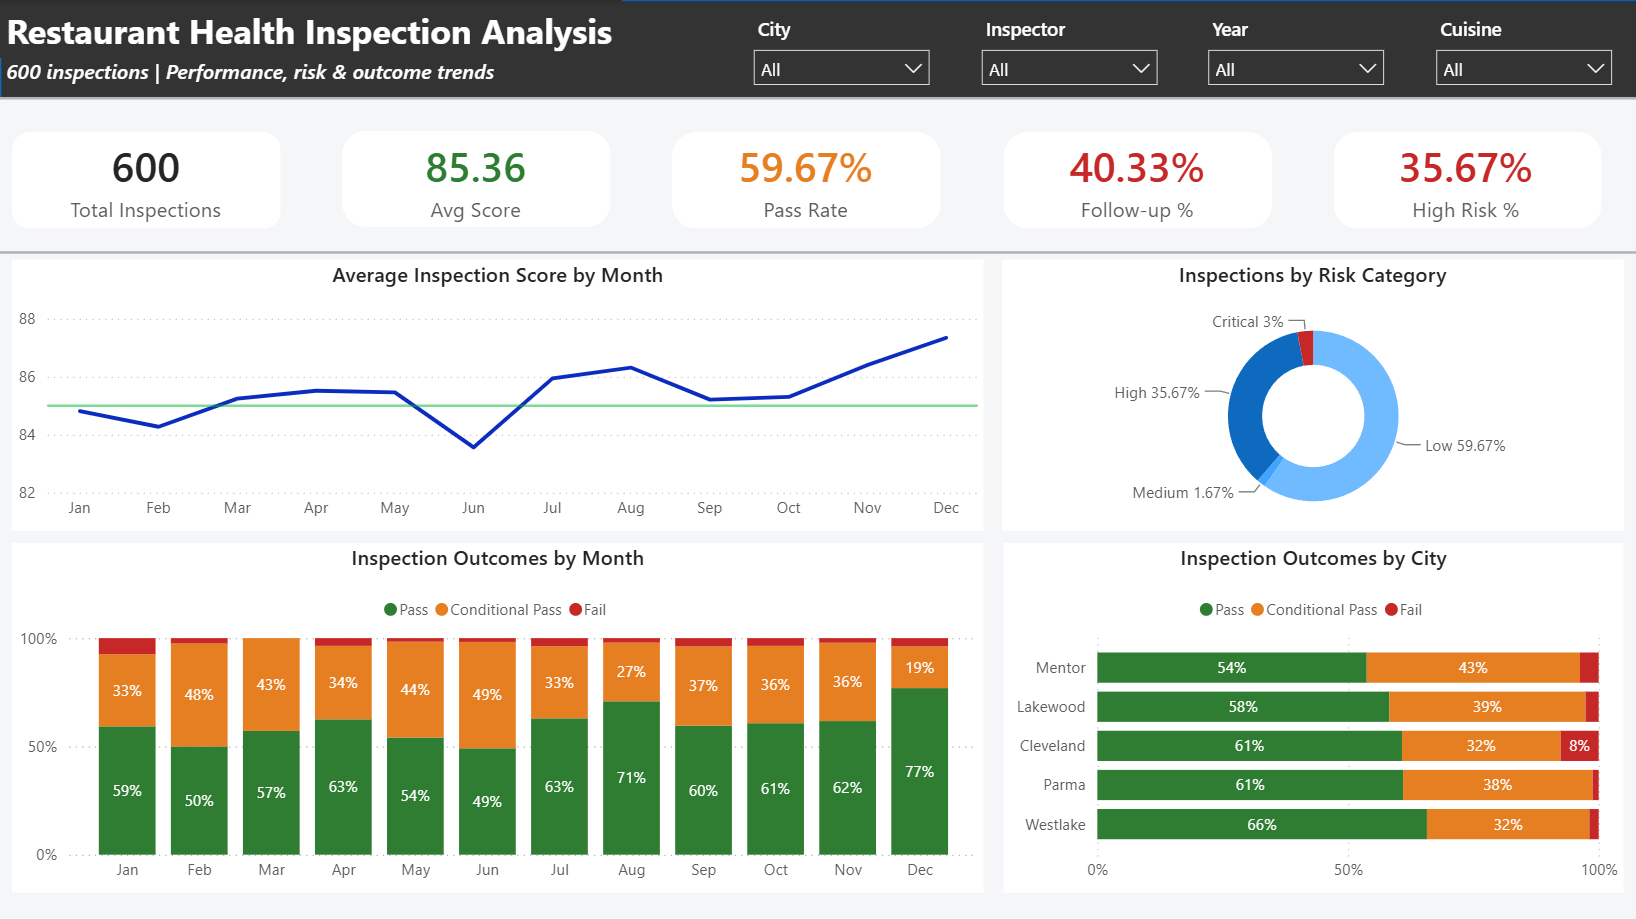

The page's visual inventory and layout, read from the dashboard file:
{"tool":"powerbi","page":{"name":"Executive Page","canvas":[1280,720],"ordinal":0},"visuals":[{"type":"shape","title":"Header Background","box":[0,0,1280,77.4],"z":0},{"type":"shape","box":[267.5,102.4,210,75.5],"z":0,"group":"g3"},{"type":"shape","box":[783.9,102.6,210,75.5],"z":0,"group":"g1"},{"type":"shape","box":[9.2,103.3,210,75.5],"z":0,"group":"g5"},{"type":"shape","box":[525.7,103.3,210,75.5],"z":0,"group":"g2"},{"type":"shape","box":[1042.1,103.3,209.6,75.5],"z":0,"group":"g4"},{"type":"textbox","title":"Title","box":[0,0,485.8,45.3],"z":1000},{"type":"cardVisual","fields":{"Data":["Measure.Total Inspections"]},"box":[9.2,90.1,209.9,101.2],"z":1000,"group":"g5"},{"type":"cardVisual","fields":{"Data":["Measure.Average Inspection Score"]},"box":[267.5,90.1,209.9,101.2],"z":1000,"group":"g3"},{"type":"cardVisual","fields":{"Data":["Measure.Pass Rate"]},"box":[525.7,90.1,209.9,101.2],"z":1000,"group":"g2"},{"type":"cardVisual","fields":{"Data":["Measure.Follow-up Rate %"]},"box":[784.3,90.1,209.9,101.2],"z":1000,"group":"g1"},{"type":"cardVisual","fields":{"Data":["Measure.High-Risk Inspection Rate %"]},"box":[1042.1,90.1,207.2,101.2],"z":1000,"group":"g4"},{"type":"slicer","title":"Cuisine Slicer","fields":{"Values":["Restaurants.Cuisine"]},"box":[1112.4,7,157,63.4],"z":2000},{"type":"slicer","title":"Year Slicer","fields":{"Values":["Date.Year"]},"box":[934.6,7,157,63.4],"z":3000},{"type":"slicer","title":"Inspector Slicer","fields":{"Values":["Inspectors.Inspector_Name"]},"box":[756.9,7,157,63.4],"z":4000},{"type":"slicer","title":"City Slicer","fields":{"Values":["Restaurants.City"]},"box":[579,7,157.1,62.1],"z":5000},{"type":"shape","title":"Title Bottom Border","box":[0,69.2,1280,15.2],"z":6000},{"type":"group","id":"g1","title":"Follow up % KPI","box":[783.9,90.1,209.9,101.3],"z":7000},{"type":"group","id":"g2","title":"Pass Rate KPI","box":[525.7,90.1,209.9,101.3],"z":8000},{"type":"group","id":"g3","title":"Avg Score KPI","box":[267.5,90.1,209.9,101.3],"z":9000},{"type":"group","id":"g4","title":"High Risk % KPI","box":[1042.1,90.1,209.9,101.3],"z":10000},{"type":"group","id":"g5","title":"Total Inspections KPI","box":[9.2,90.1,210,101],"z":11000},{"type":"shape","title":"KPI Bottom Border","box":[0,191.1,1280,12.4],"z":12000},{"type":"lineChart","title":"Average Inspection Score by Month","fields":{"Y":["Measure.Average Inspection Score"],"Category":["Date.Date Heiarchy.Year","Date.Date Heiarchy.Quarter","Date.Date Heiarchy.Month Short","Date.Date Heiarchy.Day"]},"box":[9.1,203.2,759.4,212.2],"z":13000},{"type":"donutChart","title":"Inspections by Risk Category","fields":{"Y":["Measure.Total Inspections"],"Category":["Fact_Inspections.Risk Category New"]},"box":[783.5,203.2,485.8,212.2],"z":14000},{"type":"hundredPercentStackedColumnChart","title":"Inspection Outcomes by Month","fields":{"Category":["Date.Month Short"],"Series":["Fact_Inspections.Result"],"Y":["Measure.Total Inspections"]},"box":[9.1,424.4,759.4,273.6],"z":15000},{"type":"hundredPercentStackedBarChart","title":"Inspection Outcomes by City","fields":{"Category":["Restaurants.City"],"Y":["Measure.Total Inspections"],"Series":["Fact_Inspections.Result"]},"box":[784.5,424.4,484.8,273.6],"z":16000},{"type":"textbox","box":[0,38.2,406.3,52.3],"z":17000}]}

Visuals, with their boxes in screenshot pixels (x1, y1, x2, y2), scaled from the page's 1280x720 canvas onto the 1636x919 screenshot:
"Header Background" shape: 0/0/1635/99
shape: 342/131/610/227
shape: 1002/131/1270/227
shape: 12/132/280/228
shape: 672/132/940/228
shape: 1332/132/1600/228
"Title" textbox: 0/0/621/58
cardVisual - Measure.Total Inspections: 12/115/280/244
cardVisual - Measure.Average Inspection Score: 342/115/610/244
cardVisual - Measure.Pass Rate: 672/115/940/244
cardVisual - Measure.Follow-up Rate %: 1002/115/1271/244
cardVisual - Measure.High-Risk Inspection Rate %: 1332/115/1597/244
"Cuisine Slicer" slicer: 1422/9/1622/90
"Year Slicer" slicer: 1195/9/1395/90
"Inspector Slicer" slicer: 967/9/1168/90
"City Slicer" slicer: 740/9/941/88
"Title Bottom Border" shape: 0/88/1635/108
"Follow up % KPI" group: 1002/115/1270/244
"Pass Rate KPI" group: 672/115/940/244
"Avg Score KPI" group: 342/115/610/244
"High Risk % KPI" group: 1332/115/1600/244
"Total Inspections KPI" group: 12/115/280/244
"KPI Bottom Border" shape: 0/244/1635/260
"Average Inspection Score by Month" lineChart: 12/259/982/530
"Inspections by Risk Category" donutChart: 1001/259/1622/530
"Inspection Outcomes by Month" hundredPercentStackedColumnChart: 12/542/982/891
"Inspection Outcomes by City" hundredPercentStackedBarChart: 1003/542/1622/891
textbox: 0/49/519/116
